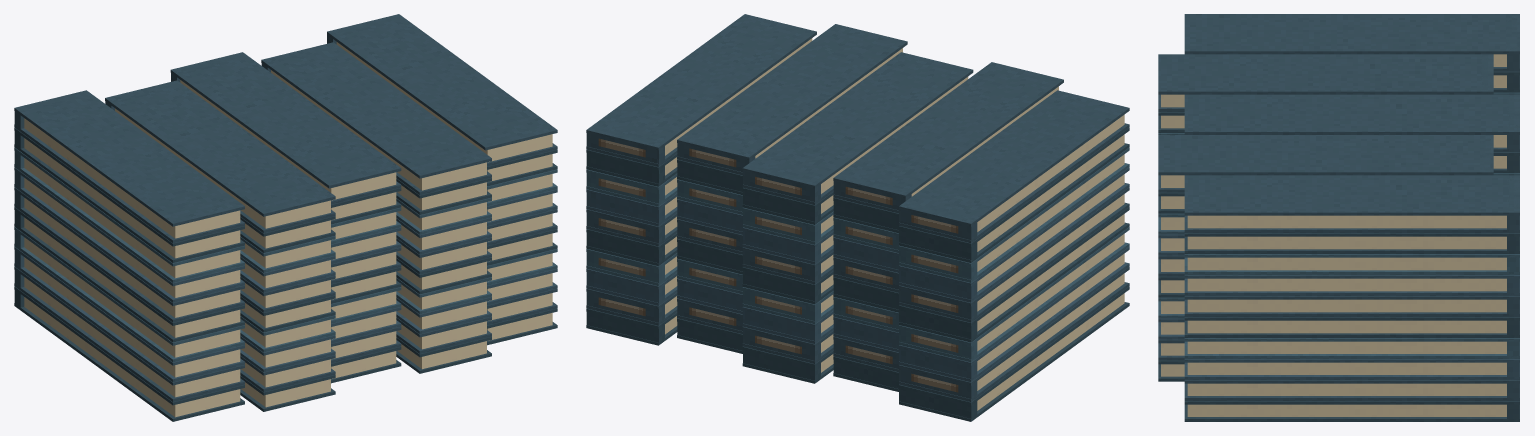
The model's file is holybook_east.glb.
3 renders of one model, left to right at view 1: azimuth 30°, elevation 25°; view 2: azimuth 150°, elevation 25°; view 3: azimuth 270°, elevation 25°, orthographic. The views are drawn at different scales.
Visible parts, largest first — view 1: block_individual volume top board (×14), block_individual volume pages (×50), block_individual volume bottom board (×30), block_individual volume spine; view 2: block_individual volume top board (×14), block_individual volume spine (×50), block_individual volume pages (×14), block_individual volume bottom board (×10); view 3: block_individual volume top board (×14), block_individual volume pages (×10), block_individual volume bottom board (×10), block_individual volume spine (×3).
Part boxes in pixels (box(x1,y1,x2,y2)): block_individual volume top board (×14): box(14, 14, 557, 405); block_individual volume pages (×50): box(24, 42, 552, 417); block_individual volume bottom board (×30): box(14, 124, 491, 421); block_individual volume spine: box(14, 92, 81, 131); block_individual volume top board (×14): box(586, 14, 1129, 405); block_individual volume spine (×50): box(586, 125, 977, 418); block_individual volume pages (×14): box(665, 38, 1124, 410); block_individual volume bottom board (×10): box(899, 123, 1129, 421); block_individual volume top board (×14): box(1158, 14, 1519, 404); block_individual volume pages (×10): box(1187, 215, 1506, 416); block_individual volume bottom board (×10): box(1184, 215, 1519, 421); block_individual volume spine (×3): box(1507, 14, 1519, 232).
Bounding box in the file's own units: 0.2885 × 0.1419 × 0.2224.
Materials: 1 (1 with a texture image).
